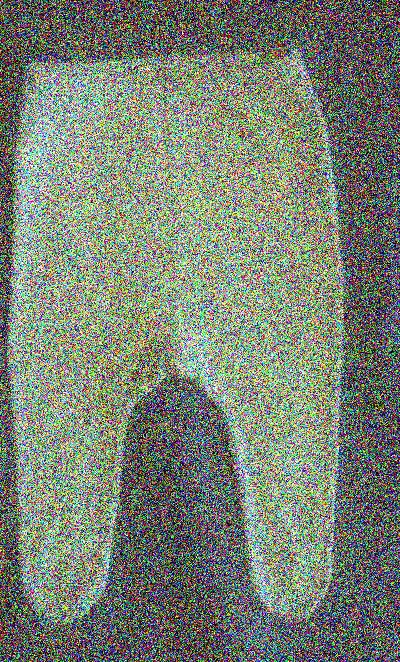Pants: (2, 42, 351, 630)
